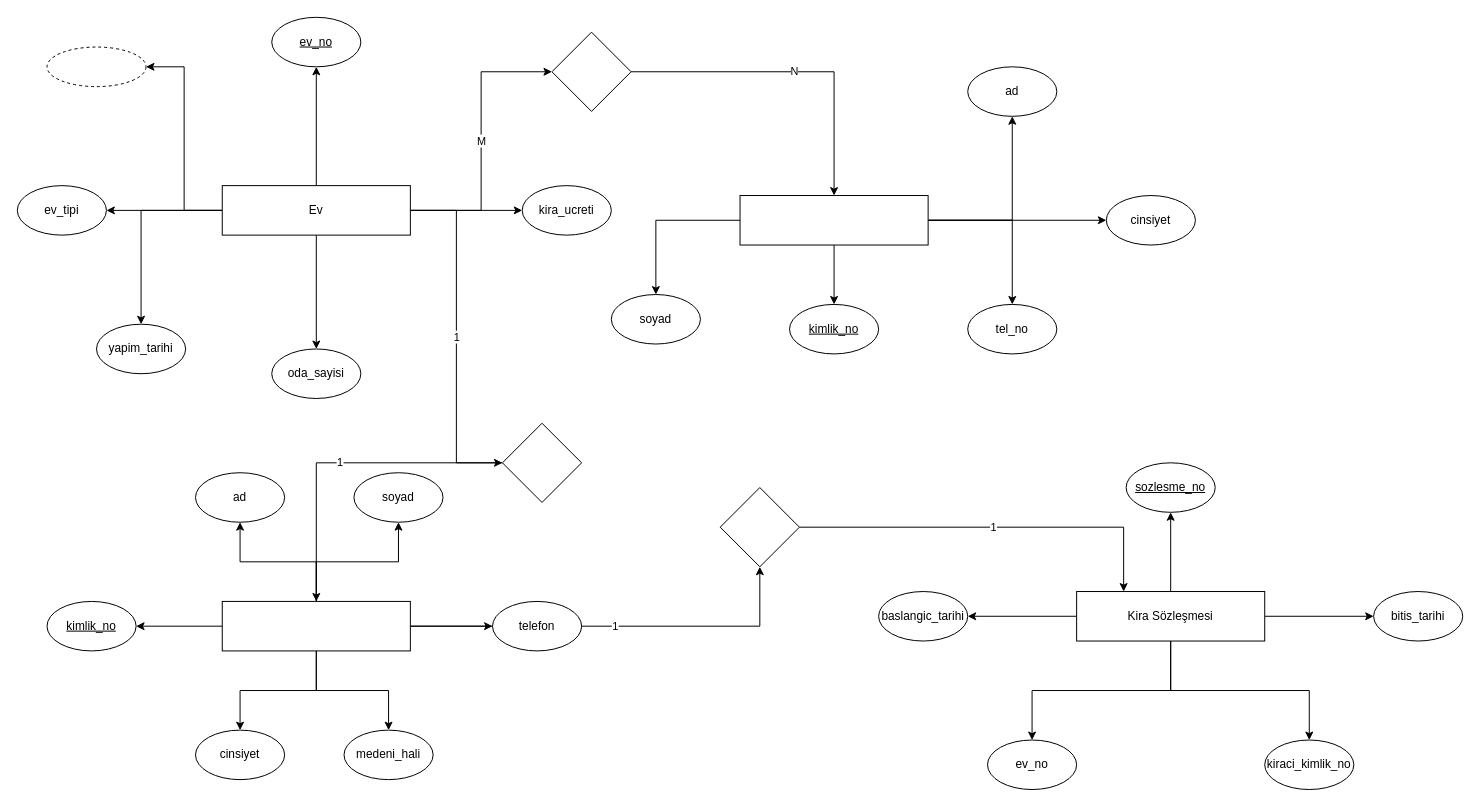
This 1480x807 diagram has some shape labels left out. Each missing label, with the centre of its shape:
Ev Sahibi: point (833, 220)
ev_yasi: point (96, 66)
Kiraci: point (315, 625)
kiralar: point (541, 462)
Sahip olur: point (591, 71)
Yapar: point (759, 527)
